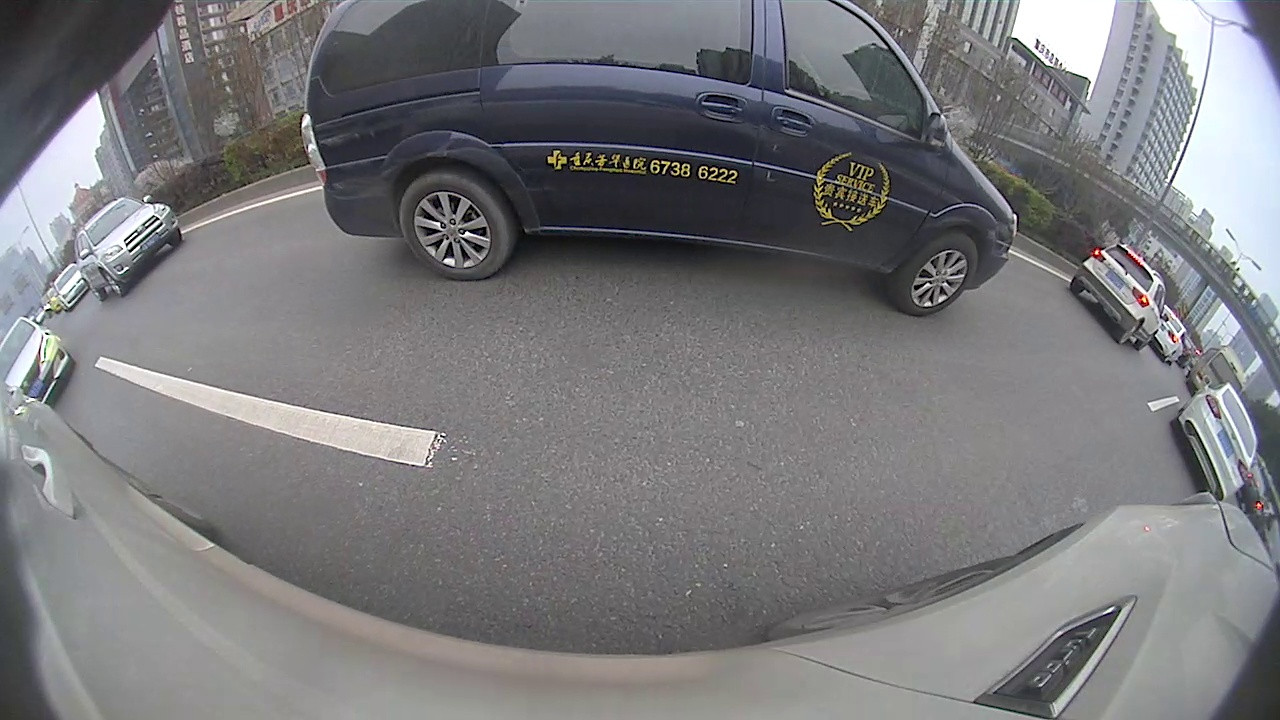car: (299, 1, 1021, 317), (74, 192, 182, 301), (1169, 384, 1260, 502), (1069, 244, 1169, 351)
front: (896, 240, 977, 315), (101, 268, 122, 296)
rear: (399, 172, 508, 282), (1119, 320, 1144, 342)
